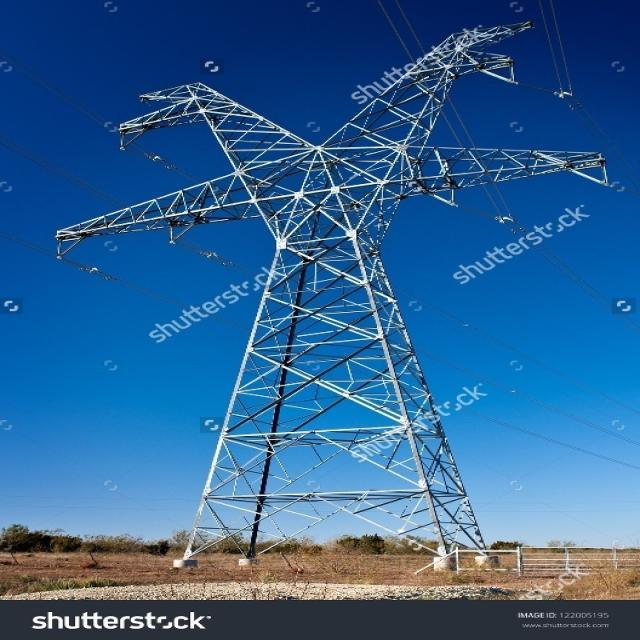non-critical vegetation: (63, 28, 600, 569)
